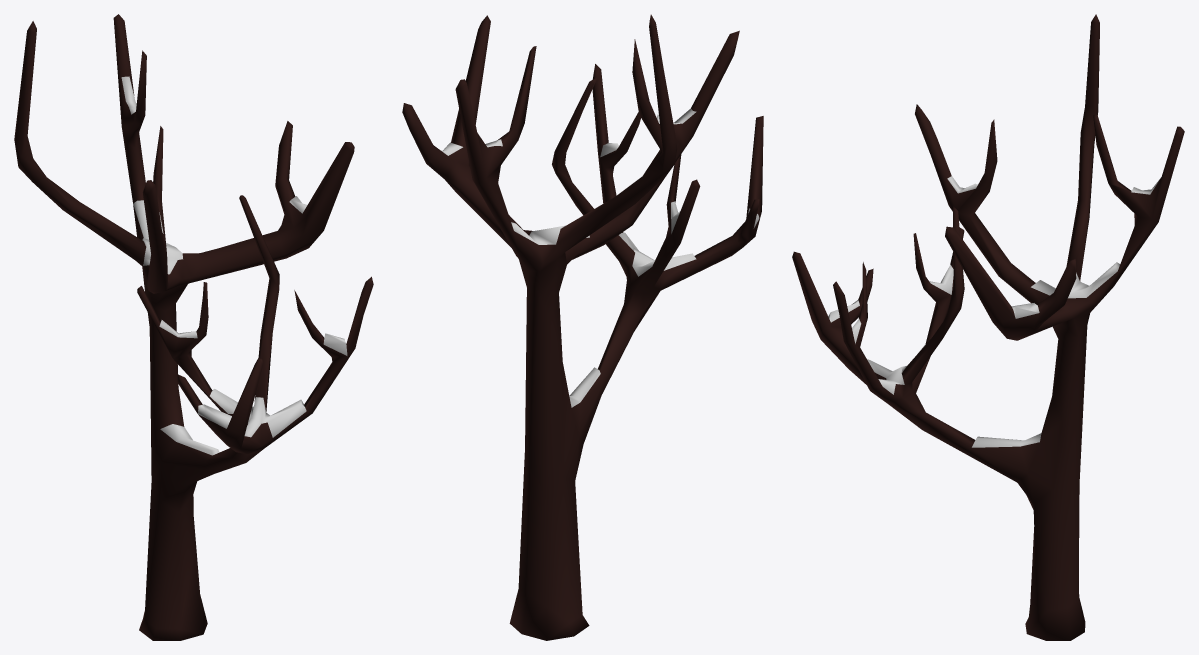
Rendered from CommonTree_Dead_Snow_2.fbx.
3 renders of one model, left to right at view 1: azimuth 30°, elevation 25°; view 2: azimuth 150°, elevation 25°; view 3: azimuth 270°, elevation 25°, orthographic. The views are drawn at different scales.
Visible parts, largest first — view 1: CommonTree_Dead_Snow_2; view 2: CommonTree_Dead_Snow_2; view 3: CommonTree_Dead_Snow_2.
Part boxes in pixels (<box>): CommonTree_Dead_Snow_2: <box>14,14,373,640</box>; CommonTree_Dead_Snow_2: <box>402,14,763,640</box>; CommonTree_Dead_Snow_2: <box>792,14,1184,640</box>.
Bounding box in the file's own units: 507 × 712 × 1126.
